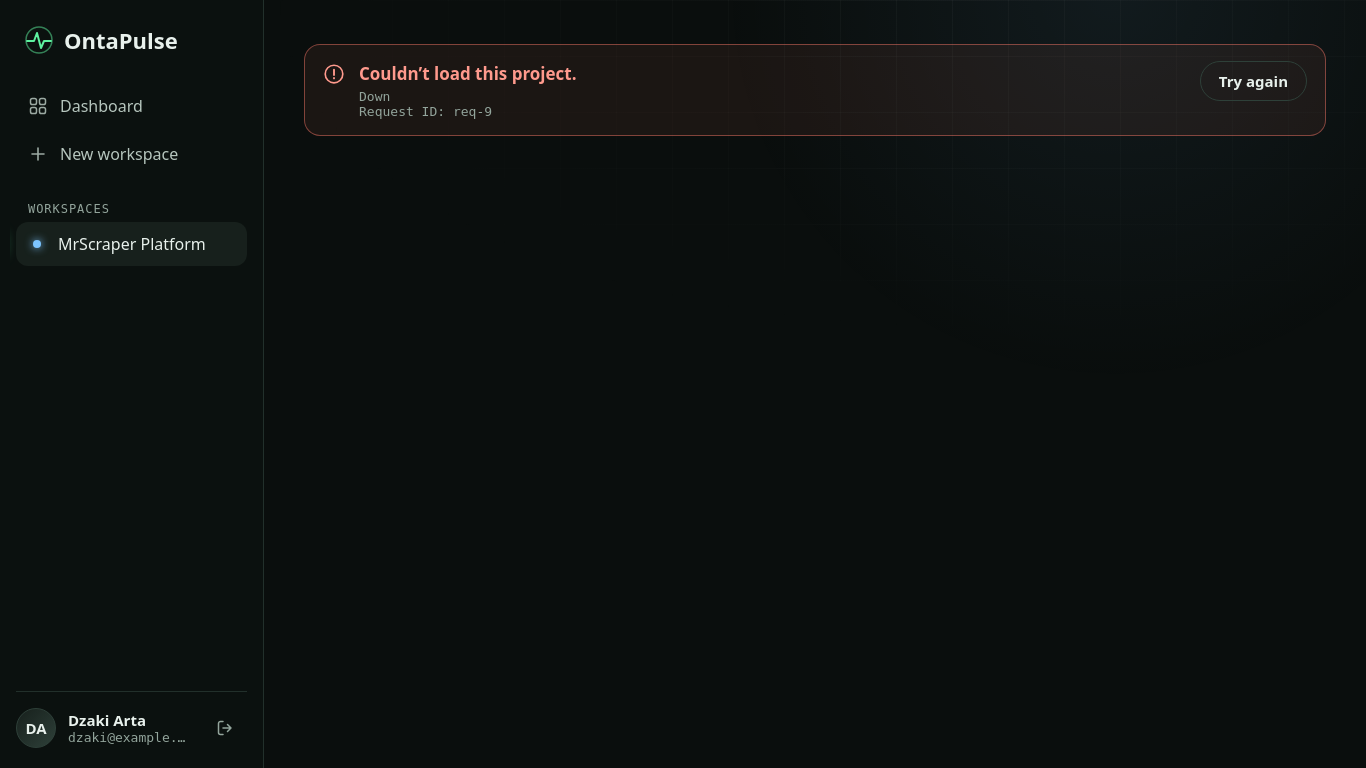
Test: ProjectPage › shows the error banner with the request id and retries
Check: the text "Couldn’t load this project." is shown, box x1=359 y1=61 x2=577 y2=86
Check: the text "Request ID: req-9" is shown, box x1=359 y1=104 x2=492 y2=118
Click the button "Try again": (1253, 81) x1=1200 y1=61 x2=1307 y2=101
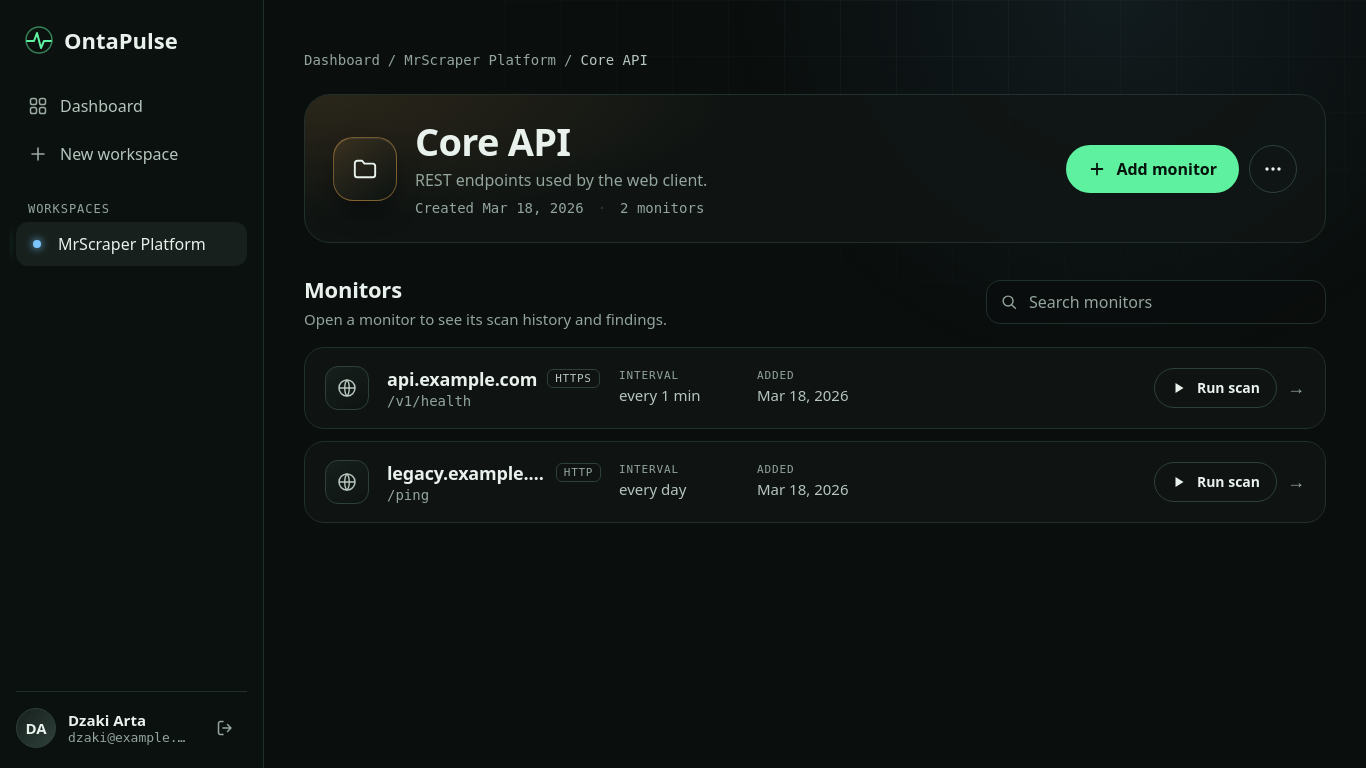
Check: the heading "Core API" is shown, box x1=415 y1=115 x2=570 y2=167
